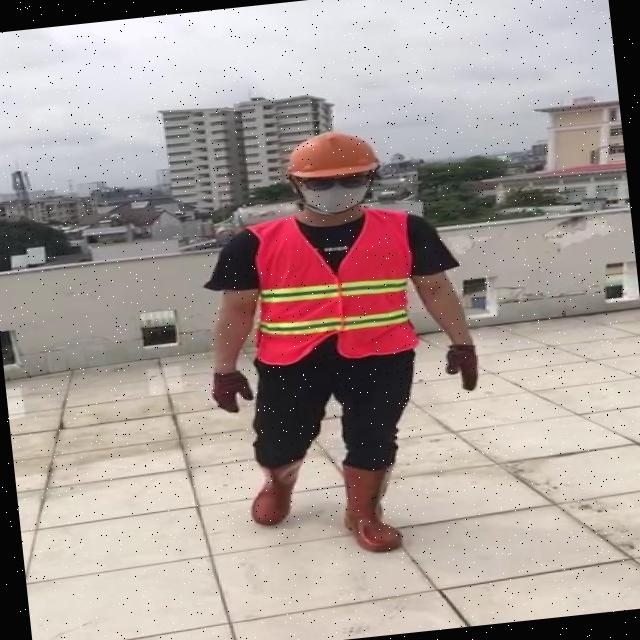boots: (334, 457, 404, 550), (244, 458, 309, 528)
